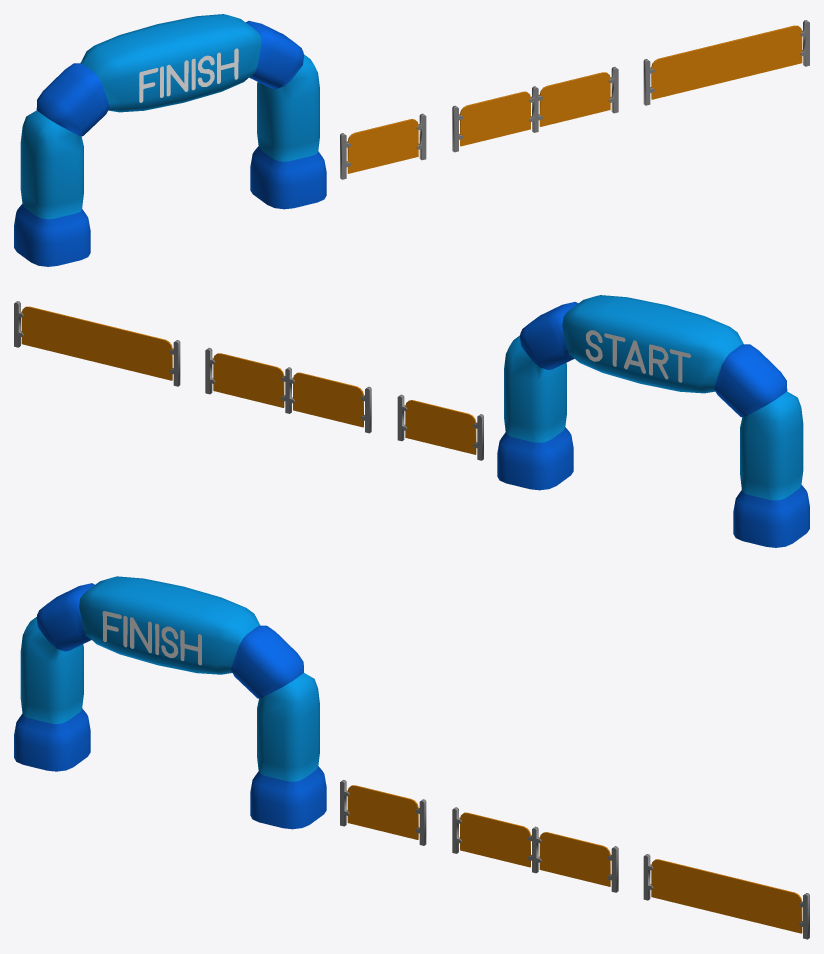
The model's file is Finish_Smooth.fbx.
The picture shows the model from 3 angles, top to bottom: view 1: azimuth 30°, elevation 25°; view 2: azimuth 150°, elevation 25°; view 3: azimuth 330°, elevation 25°; orthographic projection.
Visible parts, largest first — view 1: Finish_Smooth, Fence_Finish_Smooth_03, Fence_Finish_Smooth_02, Fence_Finish_Smooth_01; view 2: Finish_Smooth, Fence_Finish_Smooth_03, Fence_Finish_Smooth_02, Fence_Finish_Smooth_01; view 3: Finish_Smooth, Fence_Finish_Smooth_03, Fence_Finish_Smooth_02, Fence_Finish_Smooth_01.
Boxes of the visible parts, <box> form: Finish_Smooth: <box>14,14,326,266</box>; Fence_Finish_Smooth_03: <box>643,20,809,105</box>; Fence_Finish_Smooth_02: <box>452,67,618,152</box>; Fence_Finish_Smooth_01: <box>340,113,426,179</box>; Finish_Smooth: <box>497,295,809,547</box>; Fence_Finish_Smooth_03: <box>14,301,180,386</box>; Fence_Finish_Smooth_02: <box>205,348,371,433</box>; Fence_Finish_Smooth_01: <box>397,394,483,460</box>; Finish_Smooth: <box>14,576,326,829</box>; Fence_Finish_Smooth_03: <box>643,854,809,939</box>; Fence_Finish_Smooth_02: <box>452,807,618,892</box>; Fence_Finish_Smooth_01: <box>340,780,426,845</box>.
Bounding box in the file's own units: 2419 × 562 × 195.
